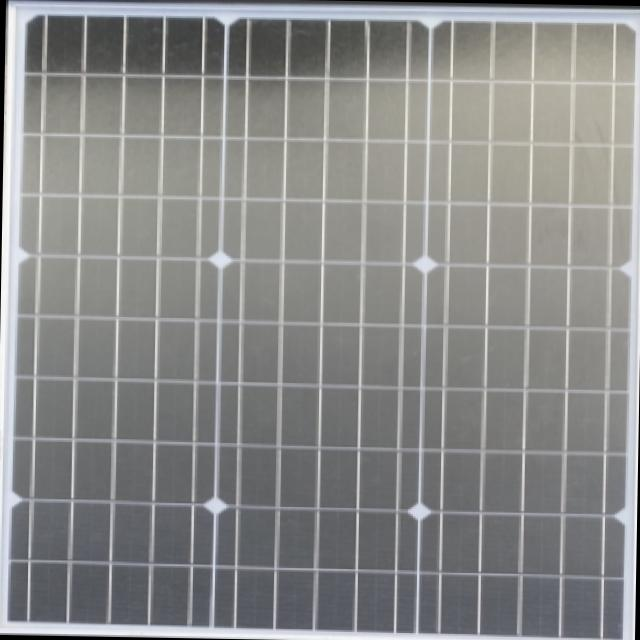no faulty: (36, 12, 630, 630)
